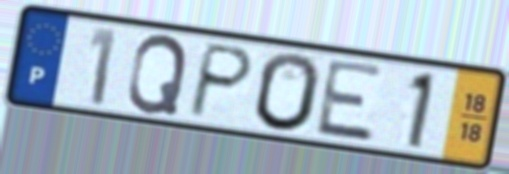1: (404, 69, 438, 152), (87, 26, 121, 109)
E: (312, 57, 388, 146)
O: (252, 50, 323, 135)
P: (184, 40, 258, 121)
Q: (124, 32, 191, 118)
